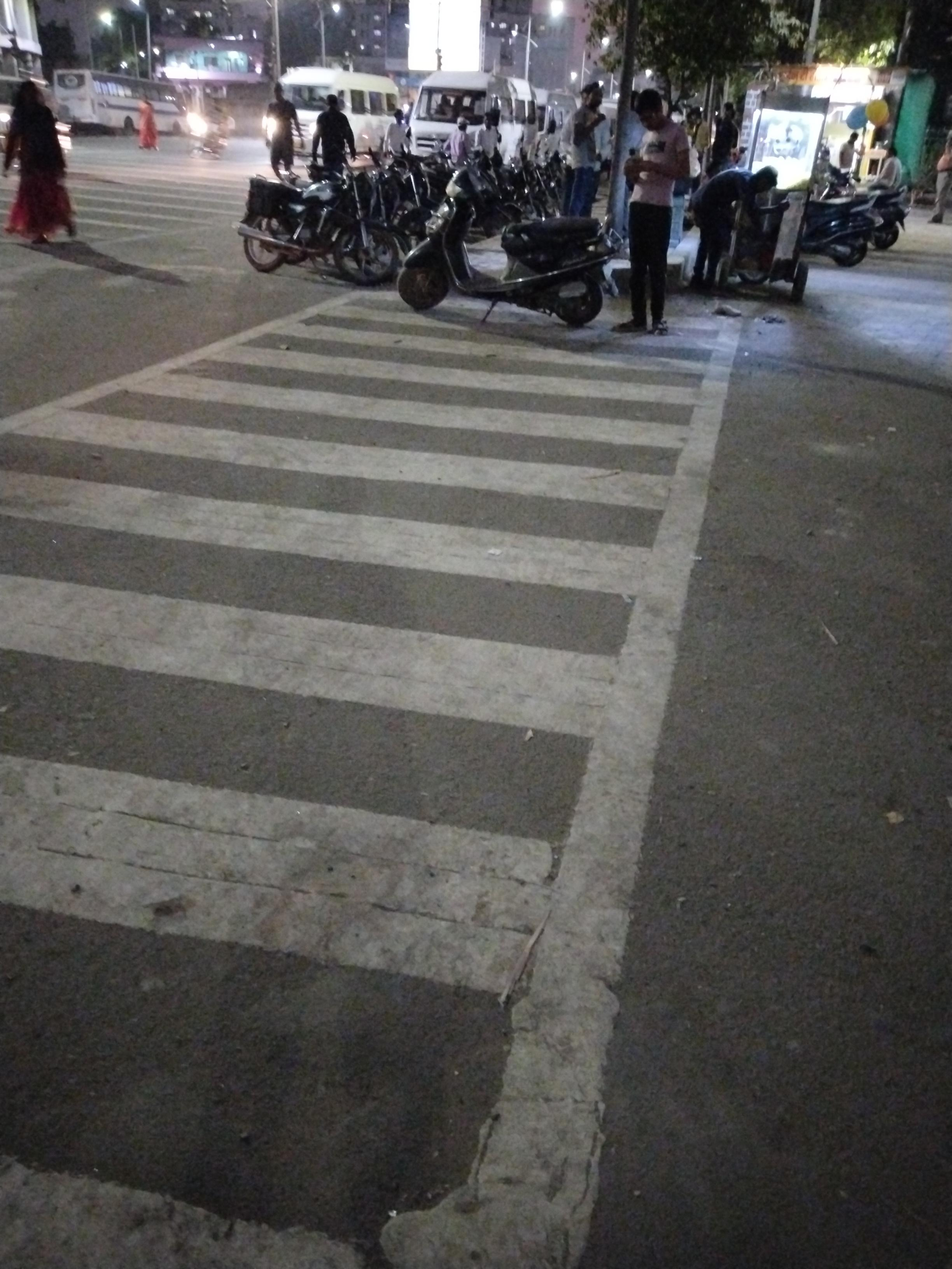crosswalk: (2, 286, 725, 1266)
